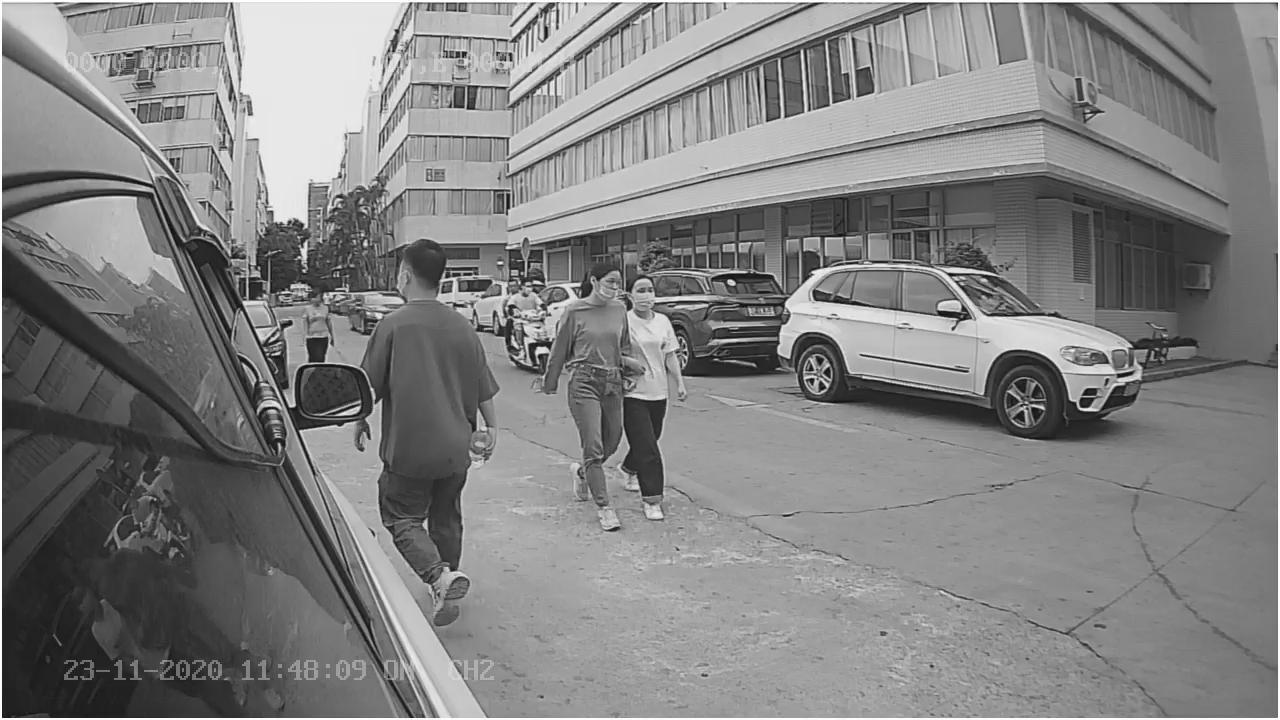person: (534, 247, 629, 524), (357, 230, 488, 371)
